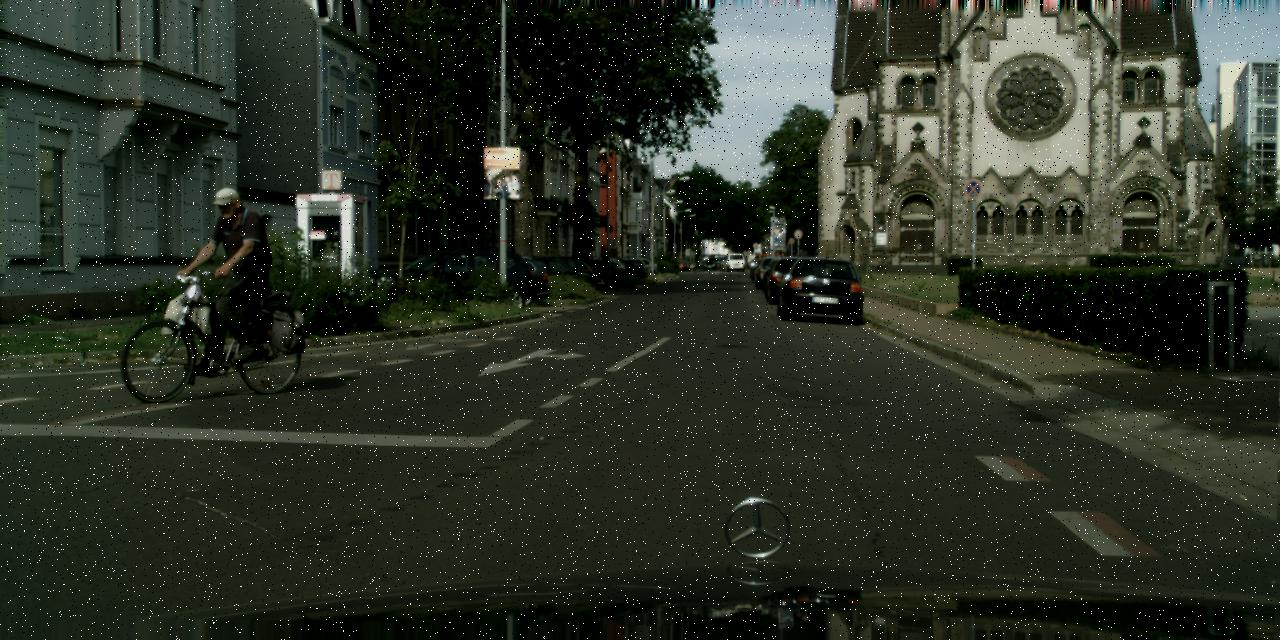ped: (190, 187, 264, 368)
